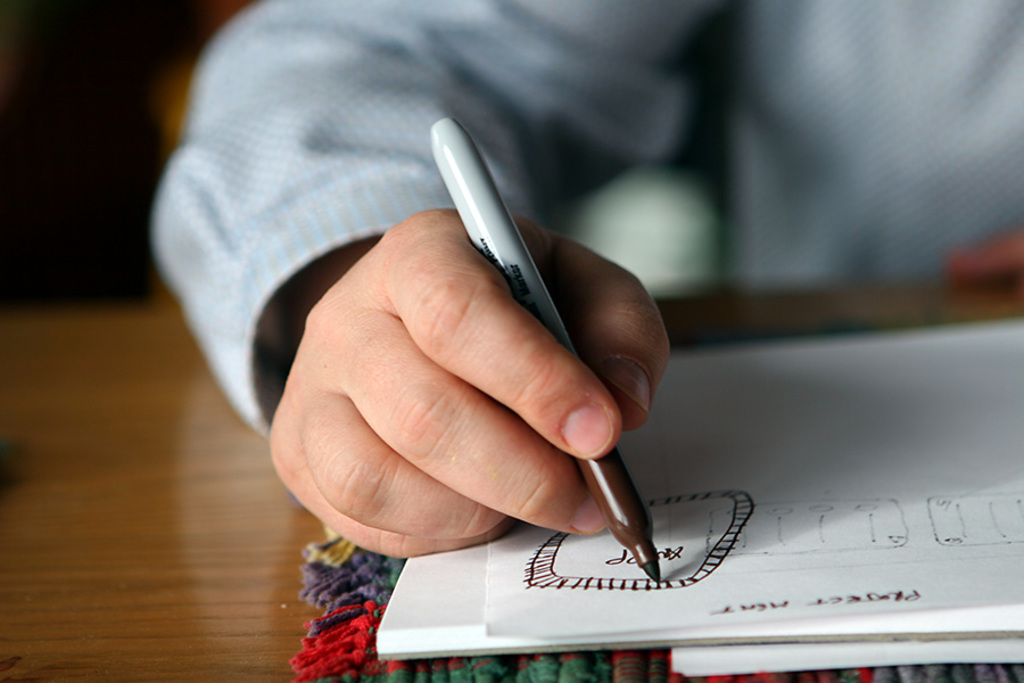Pen: (428, 115, 669, 586)
